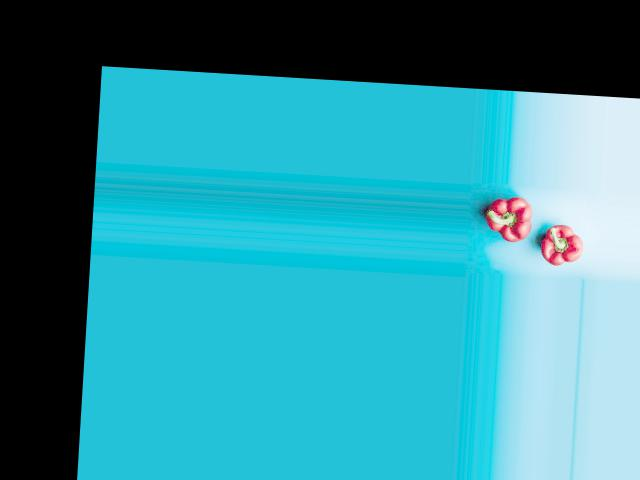bell_pepper: (479, 195, 542, 248)
